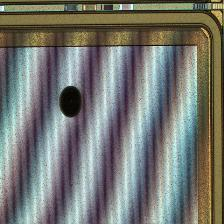PARTICLE: (57, 80, 89, 122)
